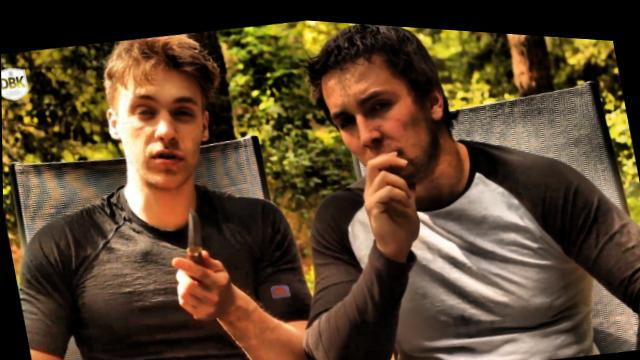knife: (152, 188, 236, 319)
